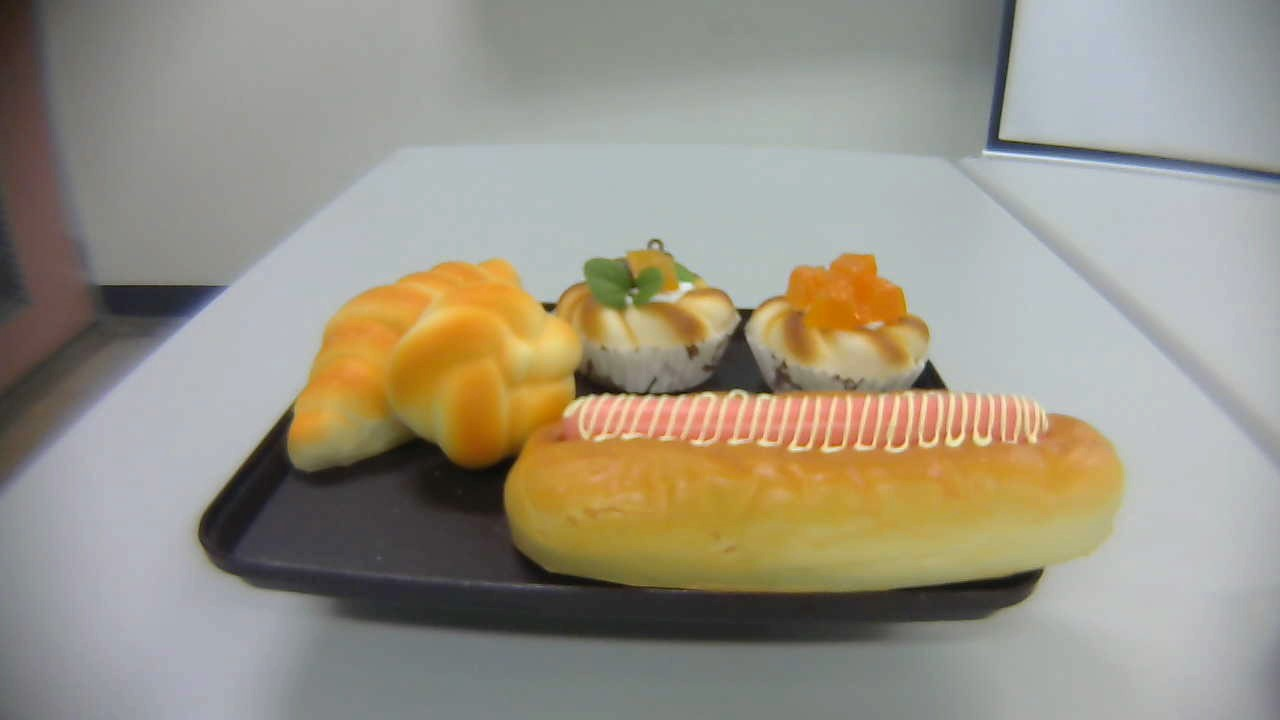croissant: (286, 258, 525, 472)
fruit tart: (545, 238, 742, 394)
hot dog: (505, 390, 1127, 591)
mango tart: (746, 253, 928, 397)
twist bread: (385, 281, 585, 469)
